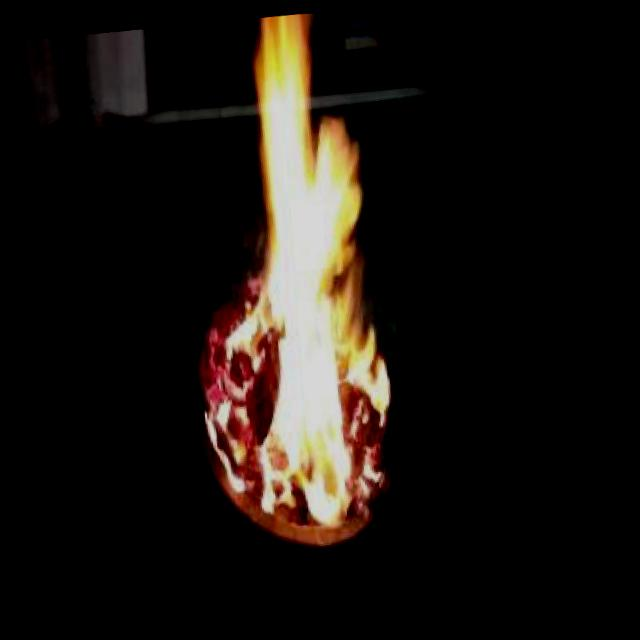no_helmet: (170, 7, 440, 545)
